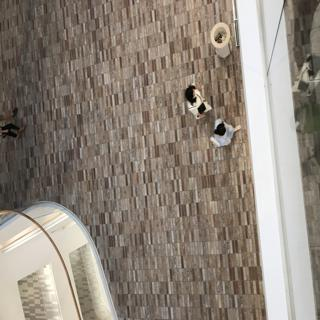person: (213, 114, 244, 157), (177, 81, 210, 120)
